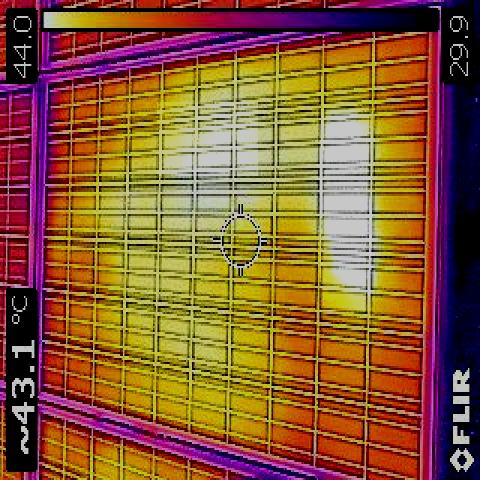fault: (320, 109, 372, 311), (157, 102, 258, 176)
